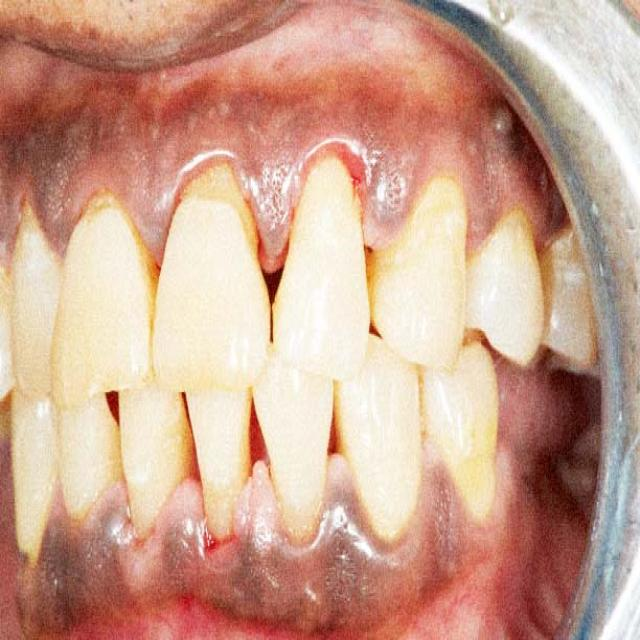caries: (11, 525, 39, 592)
